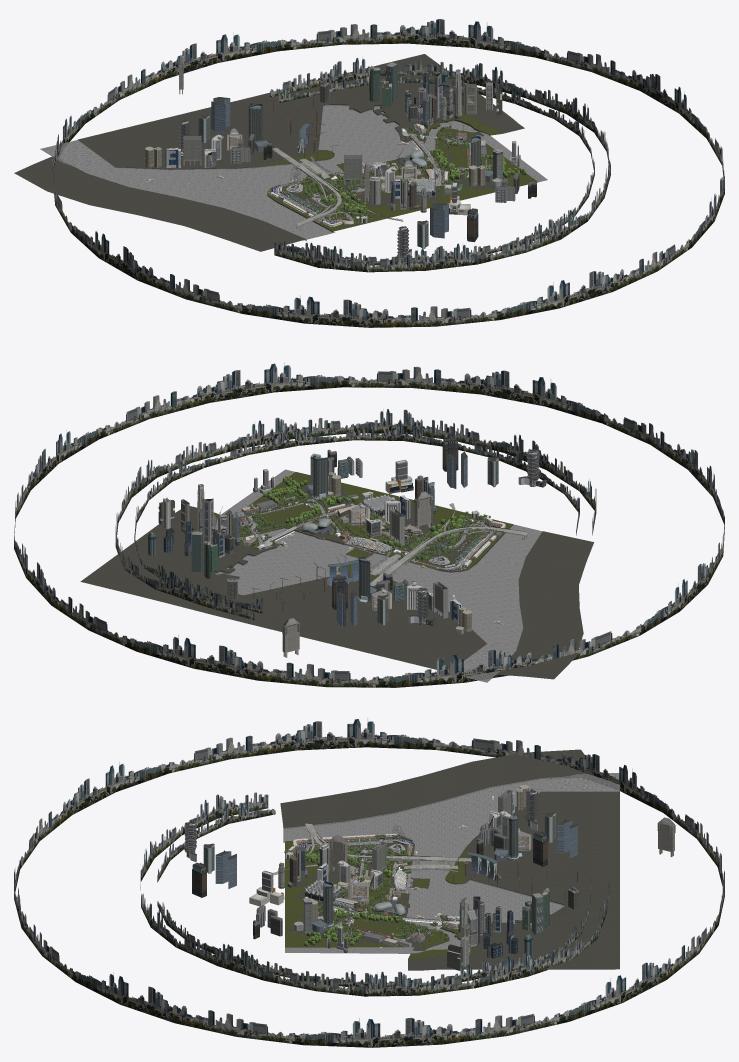
The model's file is marina-bay.clean.glb.
3 renders of one model, top to bottom at view 1: azimuth 30°, elevation 25°; view 2: azimuth 150°, elevation 25°; view 3: azimuth 270°, elevation 25°, orthographic. The views are drawn at different scales.
Visible parts, largest first — view 1: Object_6, Object_100, Object_4, Object_101, Object_64, Object_18, Object_60, Object_33, Object_63, Object_86, Object_59, Object_75 (+5 smaller); view 2: Object_6, Object_100, Object_4, Object_101, Object_64, Object_18, Object_86, Object_75, Object_43, Object_33, Object_63, Object_62 (+9 smaller); view 3: Object_6, Object_100, Object_4, Object_101, Object_64, Object_18, Object_75, Object_33, Object_63, Object_86, Object_43, Object_62 (+8 smaller).
Part boxes in pixels (bbox=[...]): Object_6: bbox=[52, 19, 724, 327]; Object_100: bbox=[14, 54, 527, 251]; Object_4: bbox=[40, 104, 547, 240]; Object_101: bbox=[258, 112, 538, 231]; Object_64: bbox=[178, 97, 478, 259]; Object_18: bbox=[301, 126, 526, 225]; Object_60: bbox=[390, 93, 446, 212]; Object_33: bbox=[230, 134, 536, 202]; Object_63: bbox=[320, 62, 397, 107]; Object_86: bbox=[272, 147, 402, 230]; Object_59: bbox=[454, 69, 502, 118]; Object_75: bbox=[248, 103, 492, 182]; Object_6: bbox=[14, 362, 724, 687]; Object_100: bbox=[80, 485, 594, 679]; Object_4: bbox=[214, 469, 542, 682]; Object_101: bbox=[194, 472, 512, 583]; Object_64: bbox=[332, 438, 547, 626]; Object_18: bbox=[233, 475, 490, 560]; Object_86: bbox=[370, 503, 528, 586]; Object_75: bbox=[307, 455, 376, 603]; Object_43: bbox=[282, 491, 432, 657]; Object_33: bbox=[327, 449, 418, 601]; Object_63: bbox=[191, 530, 237, 598]; Object_62: bbox=[163, 498, 213, 556]; Object_6: bbox=[14, 718, 724, 1047]; Object_100: bbox=[280, 749, 619, 970]; Object_4: bbox=[283, 773, 619, 953]; Object_101: bbox=[285, 835, 479, 958]; Object_64: bbox=[184, 789, 577, 897]; Object_18: bbox=[284, 844, 457, 946]; Object_75: bbox=[312, 813, 522, 932]; Object_33: bbox=[253, 823, 506, 939]; Object_63: bbox=[522, 886, 578, 935]; Object_86: bbox=[273, 823, 489, 875]; Object_43: bbox=[329, 817, 675, 871]; Object_62: bbox=[473, 896, 518, 958].
Size of what is drawn, in the model's own units: 4301 by 385 by 4301.
99 materials, 97 textured.
